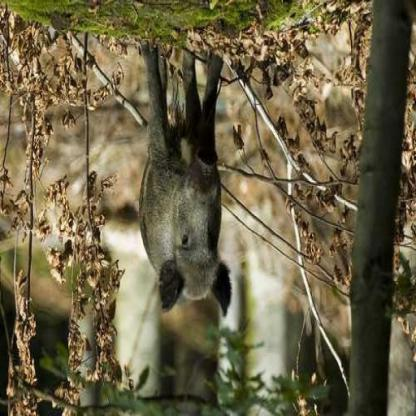boar: (110, 43, 262, 340)
